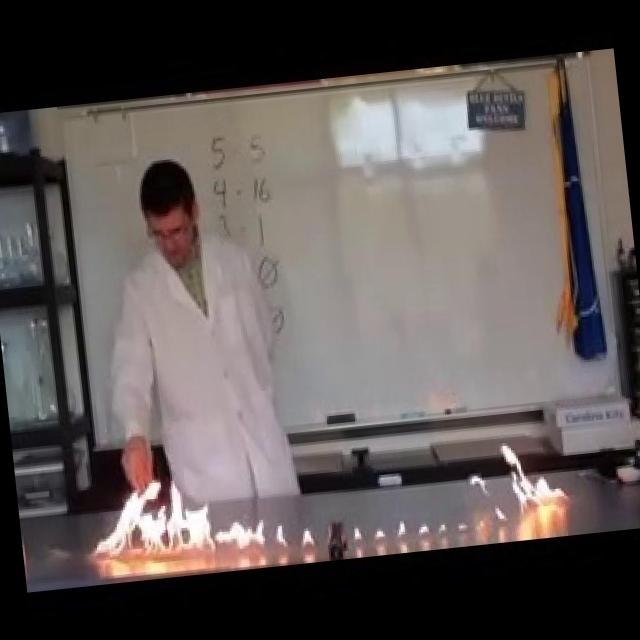Fire: (260, 431, 572, 553), (83, 456, 268, 570)
